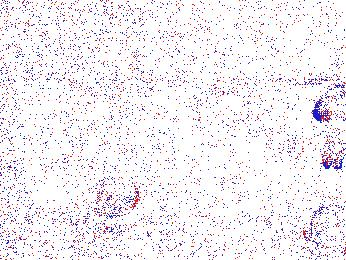flame jellyfish: (313, 85, 346, 170), (302, 204, 346, 251), (95, 175, 139, 221)
